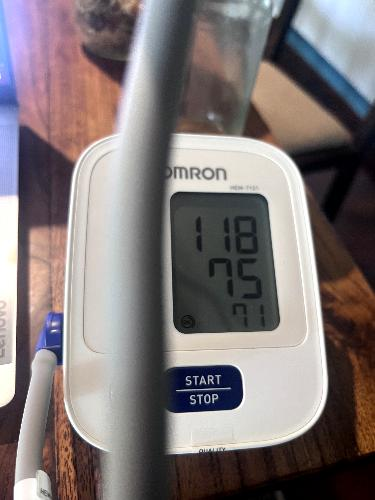bpm: (168, 186, 286, 336)
